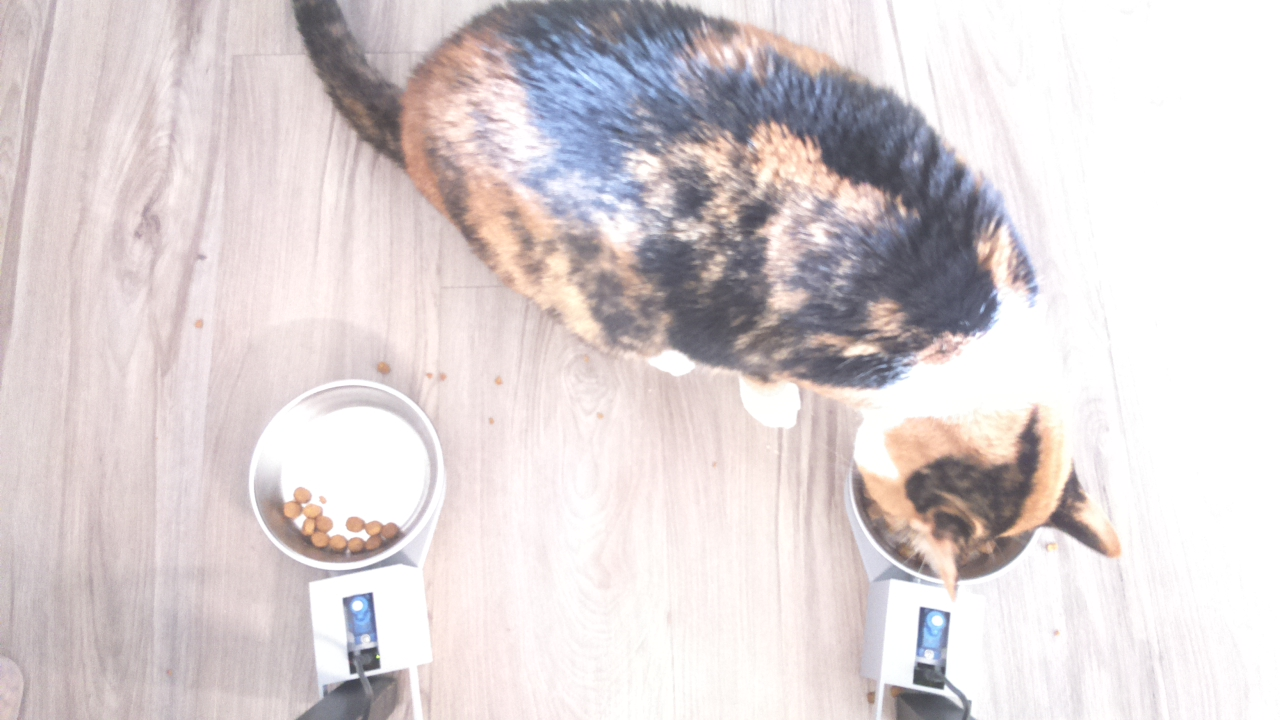bella_eating: (812, 330, 1128, 608)
open_bowl: (248, 376, 455, 569)
